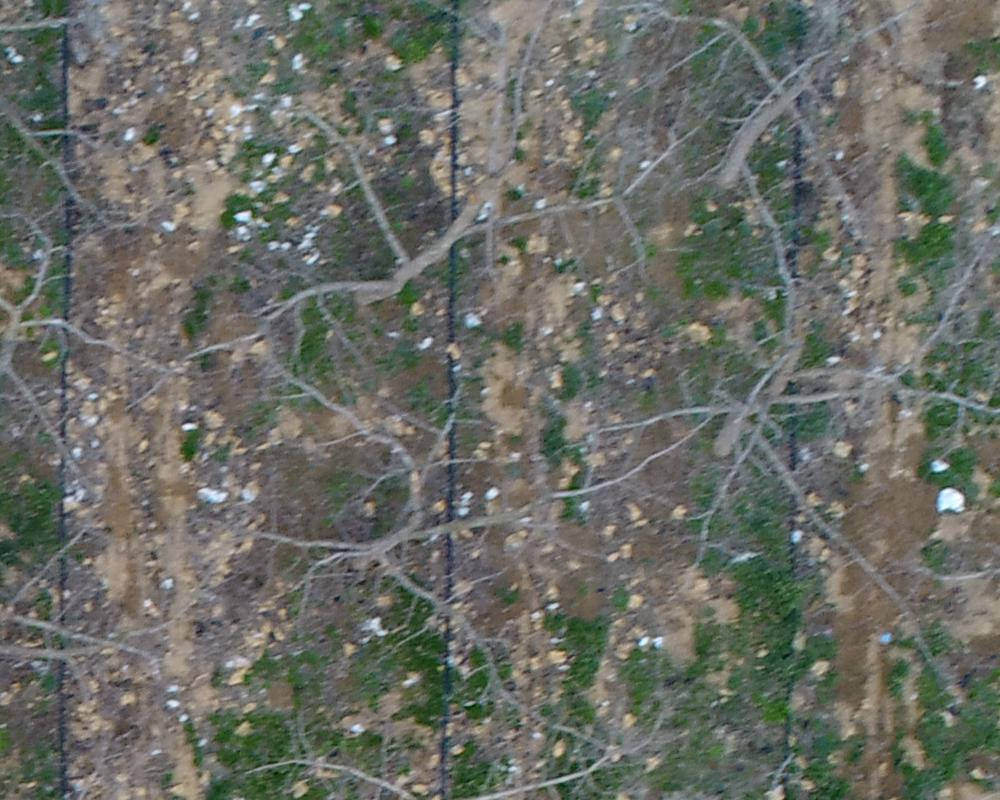apple: (564, 166, 954, 681), (213, 344, 622, 726), (234, 17, 655, 369), (604, 10, 944, 275), (10, 211, 193, 499), (10, 520, 197, 769), (10, 10, 164, 246)
